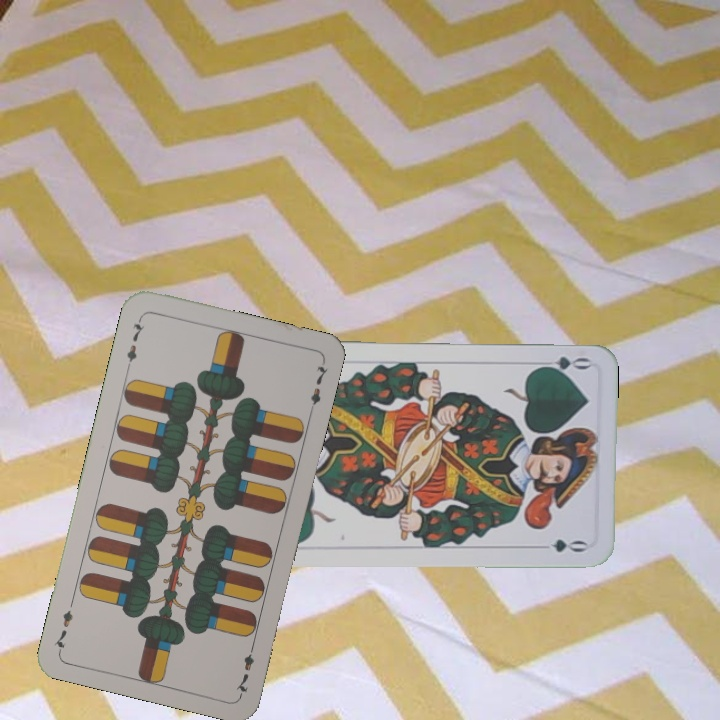E7: (231, 639, 258, 697), (122, 313, 147, 371)
GO: (533, 353, 592, 374)
